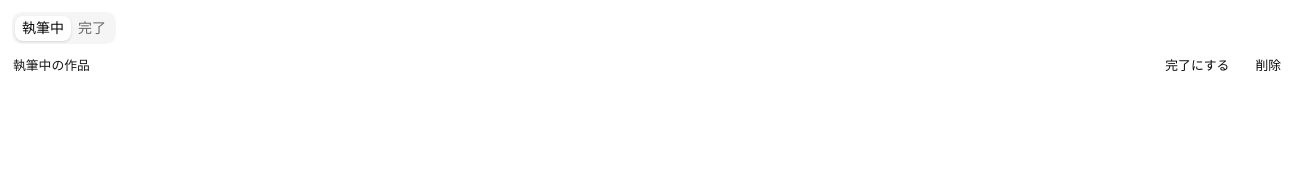
Test: WorkTabs › 「完了」を押すと、完了の作品だけを表示する
Click the tab "完了" at (92, 28), box [71,16,113,40]
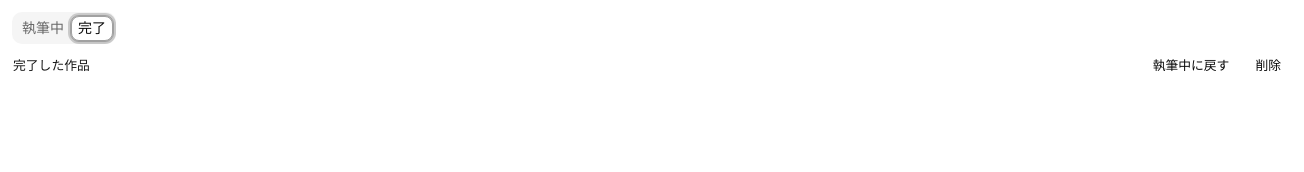
Now the button "完了した作品" is shown, box [12,56,91,76]
Now the button "執筆中の作品" is gone
